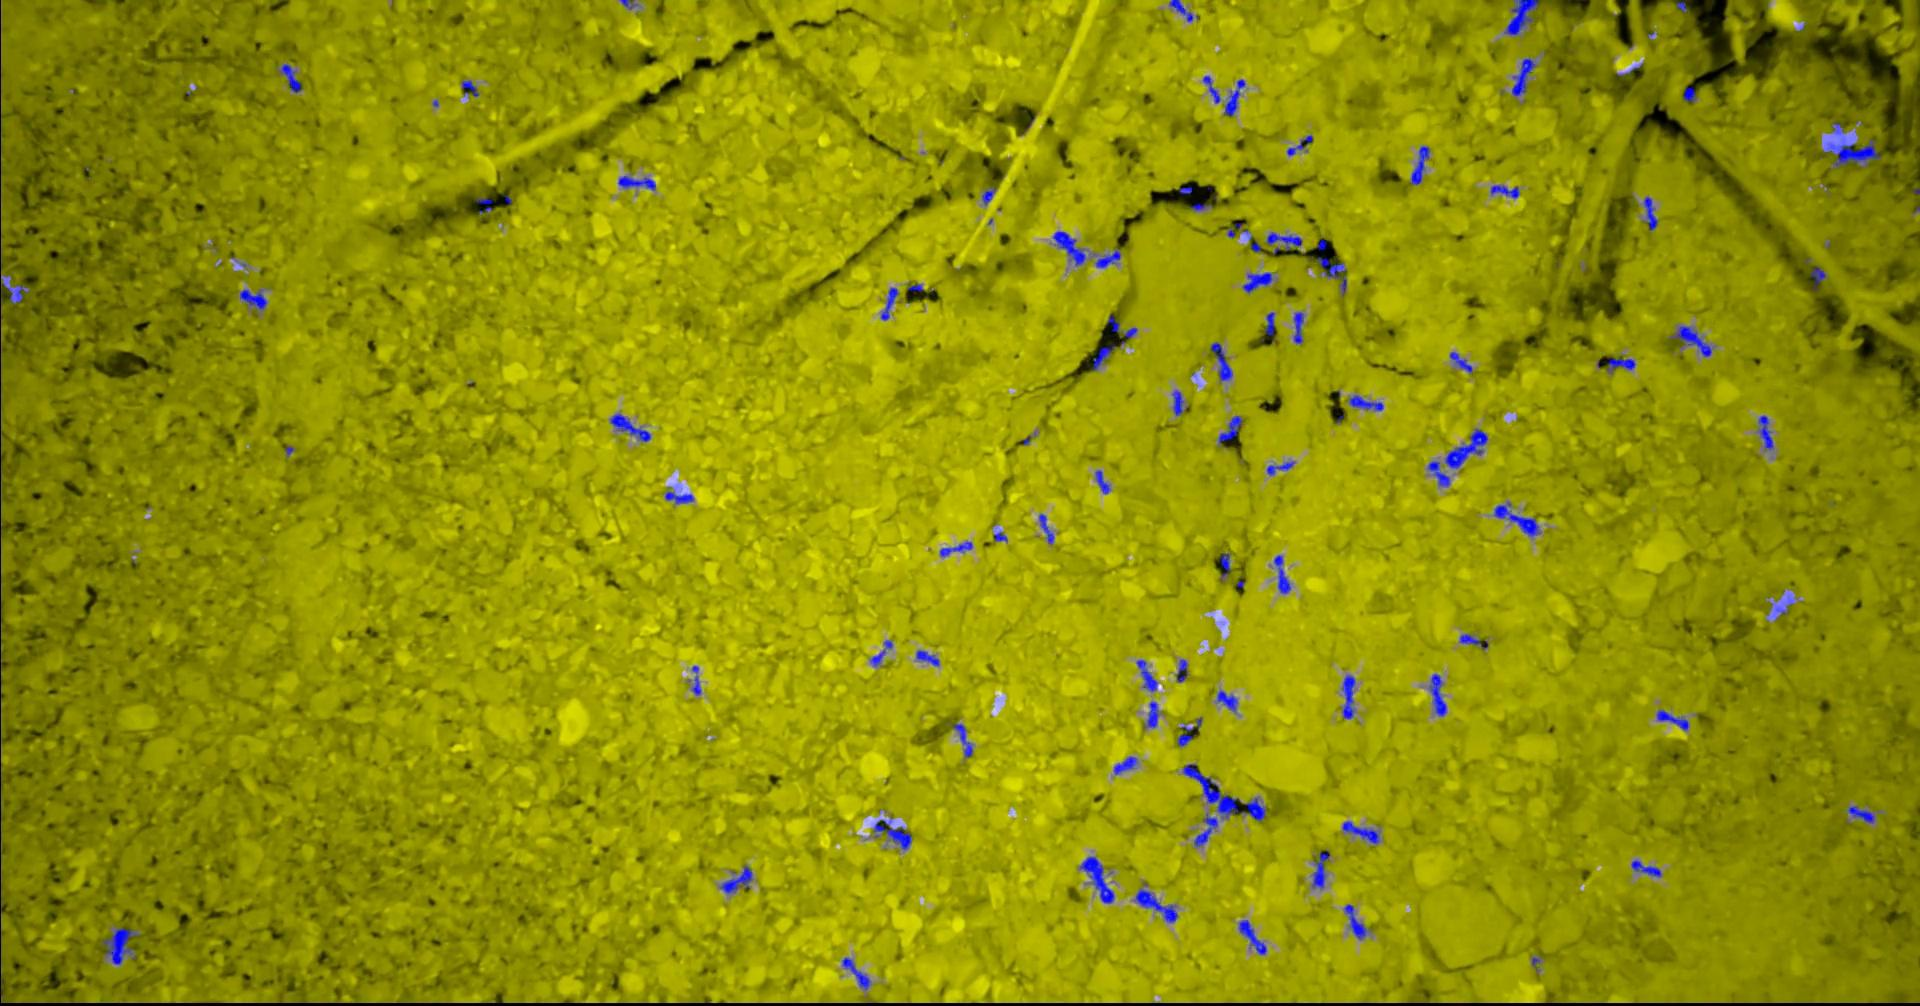ant: (1446, 428, 1490, 467), (1495, 500, 1542, 536), (1081, 856, 1115, 903), (1823, 138, 1881, 166), (1137, 888, 1178, 922), (104, 927, 141, 964), (1671, 325, 1713, 356), (1506, 0, 1540, 34), (611, 413, 651, 441), (1054, 231, 1087, 265), (1318, 257, 1349, 293), (875, 819, 913, 848), (1239, 920, 1269, 954), (1512, 57, 1537, 95), (723, 865, 754, 893), (844, 956, 871, 989), (1211, 342, 1234, 380), (1343, 821, 1382, 843), (1345, 904, 1369, 939), (1411, 145, 1431, 184), (1195, 813, 1219, 846), (1, 277, 30, 304), (1225, 79, 1246, 116), (1269, 231, 1303, 253), (1431, 673, 1448, 716), (1220, 415, 1244, 445), (1178, 716, 1203, 746), (1313, 848, 1331, 888), (954, 723, 974, 757), (1138, 659, 1159, 691), (1658, 709, 1690, 730), (1275, 554, 1291, 593), (1171, 0, 1200, 22), (1244, 271, 1274, 292), (1093, 343, 1116, 370), (883, 287, 900, 320), (1350, 394, 1385, 410), (618, 175, 657, 191), (1429, 461, 1451, 486), (871, 640, 894, 666), (1288, 133, 1314, 155), (1608, 354, 1637, 373), (1343, 674, 1356, 718), (1633, 859, 1663, 876), (283, 64, 302, 91), (1097, 246, 1123, 267), (241, 290, 268, 309), (1760, 415, 1775, 448), (941, 541, 974, 556), (1204, 75, 1222, 103), (665, 486, 695, 503), (1451, 351, 1473, 372), (1218, 690, 1239, 711), (1644, 197, 1658, 230), (1462, 633, 1490, 649), (1848, 805, 1876, 822), (1040, 513, 1055, 542), (1115, 756, 1138, 774), (917, 649, 941, 666), (1269, 461, 1297, 475), (1145, 701, 1161, 727), (1492, 185, 1521, 198), (1812, 265, 1827, 290), (1175, 390, 1189, 415), (1295, 311, 1305, 343), (1097, 470, 1111, 493), (1121, 326, 1138, 345), (463, 80, 480, 97), (477, 197, 494, 213), (1222, 553, 1232, 579), (983, 185, 997, 205), (1265, 312, 1276, 335), (1177, 659, 1189, 682), (693, 666, 702, 694), (1109, 314, 1121, 332), (1684, 86, 1698, 102)
